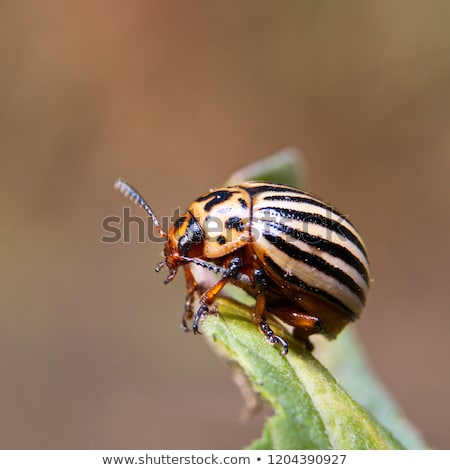hrosc: (155, 174, 379, 372)
